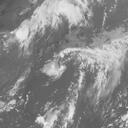cyclone: (40, 60, 66, 80)
